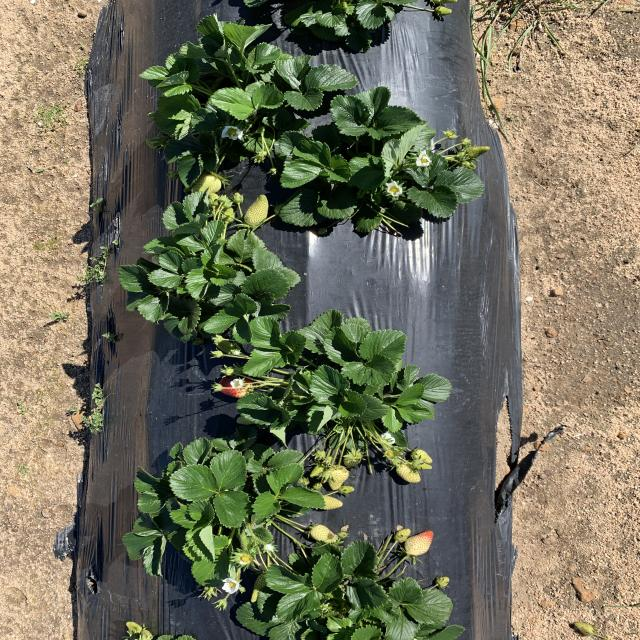unripe: (216, 375, 258, 398)
